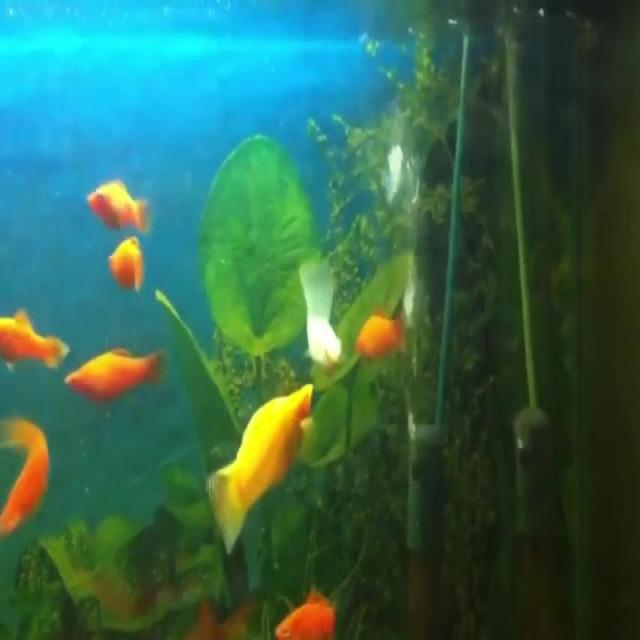PlatyFish: (200, 381, 324, 562), (54, 332, 172, 412), (78, 168, 161, 237), (344, 292, 416, 368)
